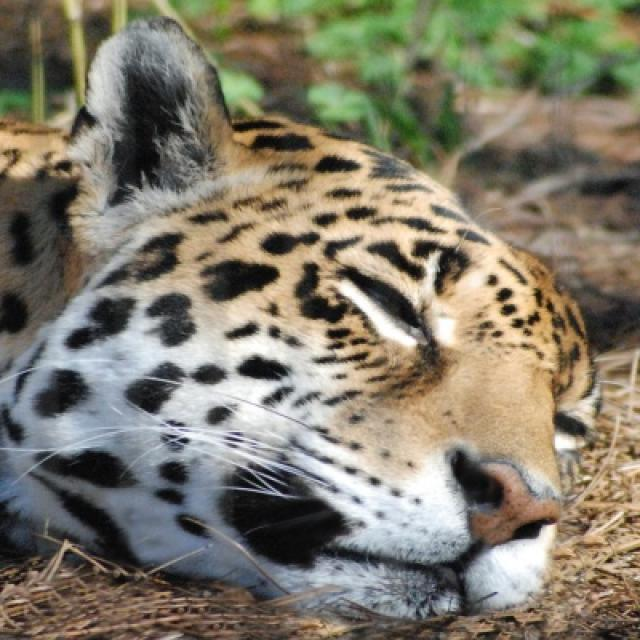Jaguar: (0, 18, 602, 626)
